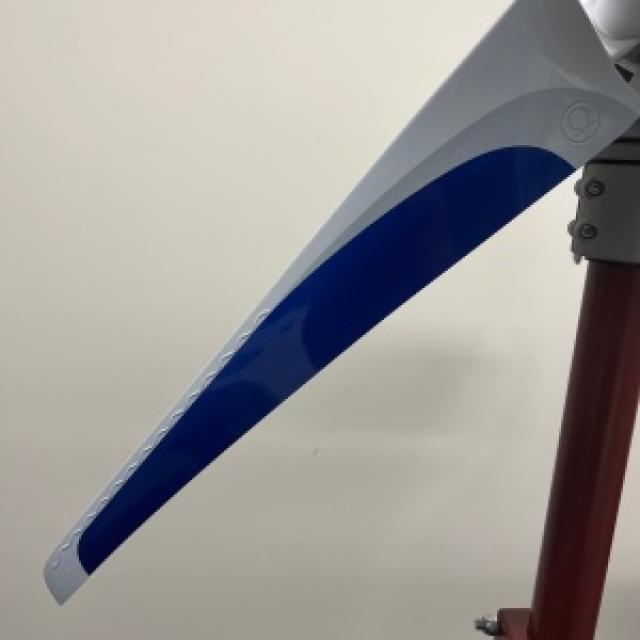healthy: (45, 0, 638, 599)
